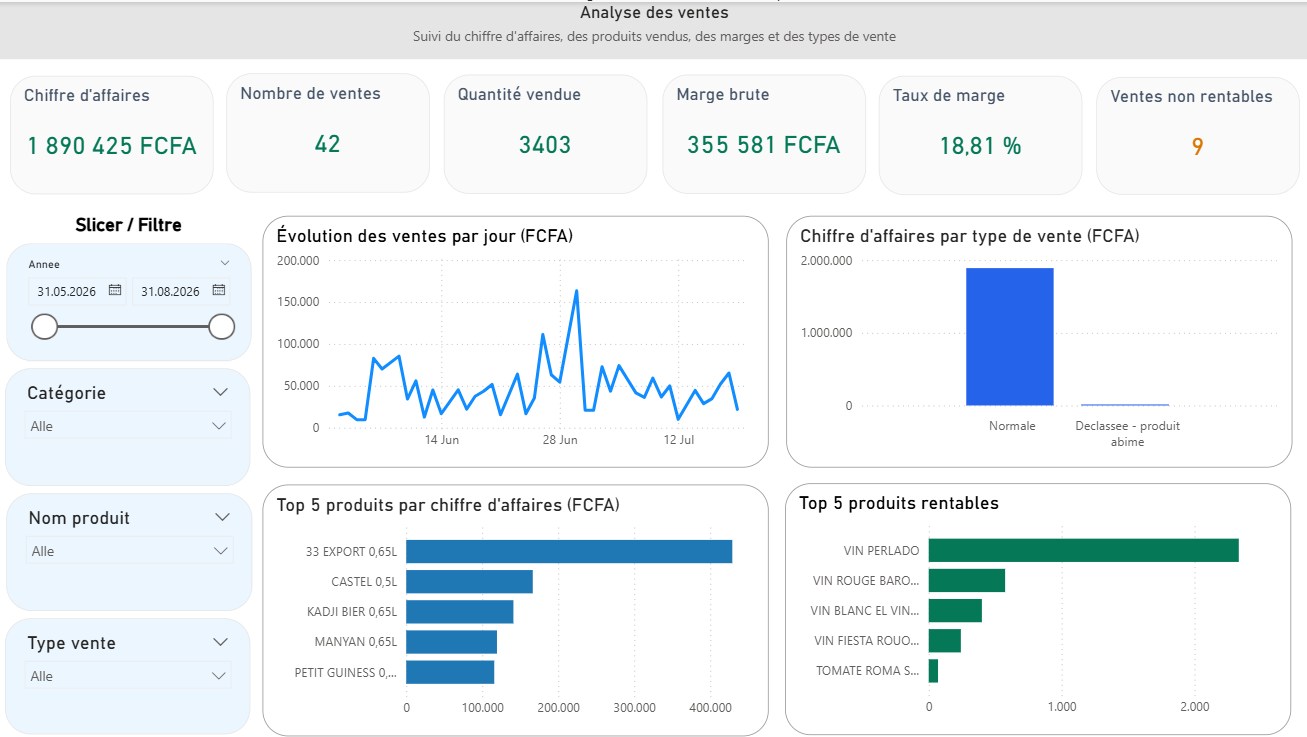

What the dashboard file says about the page in this screenshot:
{"tool":"powerbi","page":{"name":"Ventes","canvas":[1280,720],"ordinal":2},"visuals":[{"type":"shape","title":"Analyse des ventes","box":[0,0,1280.4,55.9],"z":0},{"type":"card","title":"Nombre de ventes","fields":{"Values":["_Mesures.Nombre Ventes"]},"box":[221.1,70,199.1,116.9],"z":1000},{"type":"card","title":"Quantité vendue","fields":{"Values":["_Mesures.Quantité Vendue"]},"box":[434.7,70.9,199.1,116.9],"z":2000},{"type":"card","title":"Marge brute","fields":{"Values":["_Mesures.Marge Brute Affiche"]},"box":[648.2,71.4,199.1,116.9],"z":3000},{"type":"card","title":"Ventes non rentables","fields":{"Values":["_Mesures.Ventes Non Rentables"]},"box":[1072,73.1,199.1,115.4],"z":4000},{"type":"card","title":"Chiffre d''affaires","fields":{"Values":["_Mesures.Chiffre Affaires Affiche"]},"box":[9.6,71.7,199.3,115.7],"z":5000},{"type":"lineChart","title":"Évolution des ventes par jour (FCFA)","fields":{"Category":["public vue_ventes_detail.date_vente.Variation.Datumshierarchie.Jahr","public vue_ventes_detail.date_vente.Variation.Datumshierarchie.Quartal","public vue_ventes_detail.date_vente.Variation.Datumshierarchie.Monat","public vue_ventes_detail.date_vente.Variation.Datumshierarchie.Tag"],"Y":["Sum(public vue_ventes_detail.montant_ligne)"]},"box":[256.8,209.2,495,246.7],"z":6000},{"type":"barChart","title":"Top 5 produits rentables","fields":{"Category":["public vue_ventes_detail.nom_produit"],"Y":["Sum(public vue_ventes_detail.marge_ligne)"]},"box":[768,471,495,246],"z":7000},{"type":"shape","box":[64.9,190.4,141.4,54.8],"z":8000},{"type":"slicer","title":"Filter","fields":{"Values":["public dim_produits.nom_produit"]},"box":[5.8,480.4,240.9,115.4],"z":9000},{"type":"columnChart","title":"Chiffre d''affaires par type de vente (FCFA)","fields":{"Category":["public vue_ventes_par_type.type_vente"],"Y":["Sum(public vue_ventes_par_type.chiffre_affaires)"]},"box":[768.9,209,495,246],"z":10000},{"type":"barChart","title":"Top 5 produits par chiffre d''affaires (FCFA)","fields":{"Category":["public vue_ventes_detail.nom_produit"],"Y":["Sum(public vue_ventes_detail.montant_ligne)"]},"box":[256.3,471.6,495,246],"z":11000},{"type":"slicer","fields":{"Values":["public vue_date.date_id"]},"box":[5.7,236.1,240.4,115.2],"z":12000},{"type":"slicer","title":"Filter","fields":{"Values":["public vue_ventes_detail.type_vente"]},"box":[5.3,603.3,240.3,113.9],"z":13000},{"type":"slicer","title":"Filter","fields":{"Values":["public dim_categories.nom_categorie"]},"box":[5.1,358.4,240.4,115.2],"z":14000},{"type":"card","title":"Taux de marge","fields":{"Values":["_Mesures.Taux Marge"]},"box":[859.9,72.2,199.1,116.9],"z":15000}]}

Visuals, with their boxes in screenshot pixels (x1, y1, x2, y2), scaled from the page's 1280x720 canvas onto the 1307x737 screenshot:
"Analyse des ventes" shape: {"left": 0, "top": 0, "right": 1306, "bottom": 57}
"Nombre de ventes" card: {"left": 226, "top": 72, "right": 429, "bottom": 191}
"Quantité vendue" card: {"left": 444, "top": 73, "right": 647, "bottom": 192}
"Marge brute" card: {"left": 662, "top": 73, "right": 865, "bottom": 193}
"Ventes non rentables" card: {"left": 1095, "top": 75, "right": 1298, "bottom": 193}
"Chiffre d''affaires" card: {"left": 10, "top": 73, "right": 213, "bottom": 192}
"Évolution des ventes par jour (FCFA)" lineChart: {"left": 262, "top": 214, "right": 768, "bottom": 467}
"Top 5 produits rentables" barChart: {"left": 784, "top": 482, "right": 1290, "bottom": 734}
shape: {"left": 66, "top": 195, "right": 211, "bottom": 251}
"Filter" slicer: {"left": 6, "top": 492, "right": 252, "bottom": 610}
"Chiffre d''affaires par type de vente (FCFA)" columnChart: {"left": 785, "top": 214, "right": 1291, "bottom": 466}
"Top 5 produits par chiffre d''affaires (FCFA)" barChart: {"left": 262, "top": 483, "right": 767, "bottom": 735}
slicer - public vue_date.date_id: {"left": 6, "top": 242, "right": 251, "bottom": 360}
"Filter" slicer: {"left": 5, "top": 618, "right": 251, "bottom": 734}
"Filter" slicer: {"left": 5, "top": 367, "right": 251, "bottom": 485}
"Taux de marge" card: {"left": 878, "top": 74, "right": 1081, "bottom": 194}
